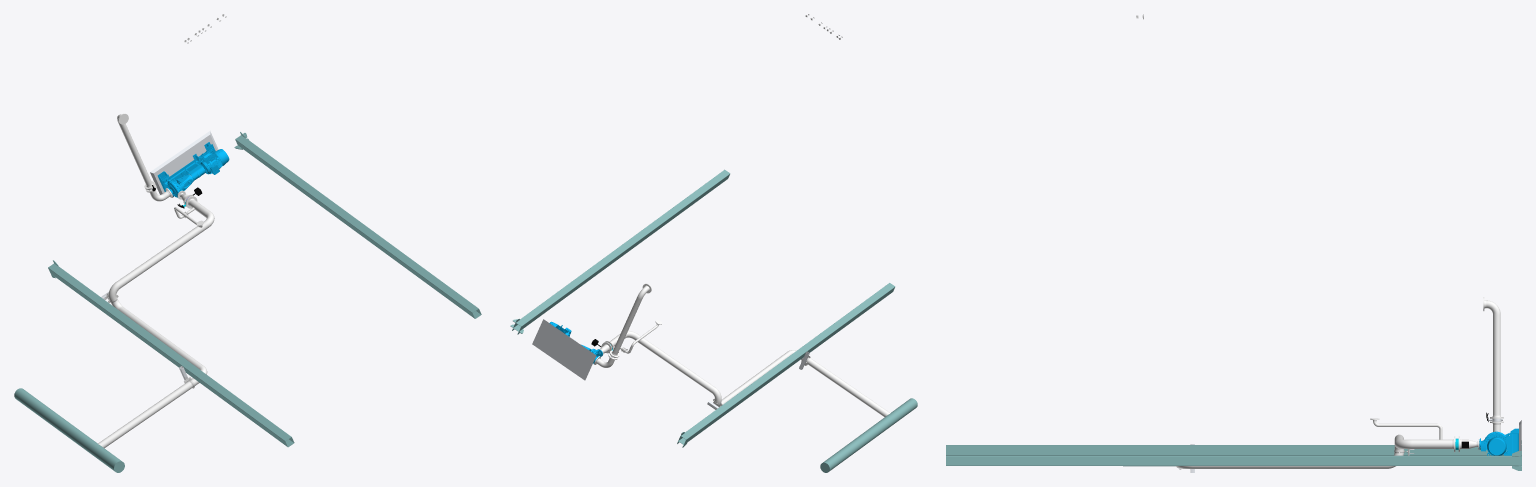
Rendered from New_Siebtechnik_New_PUMP2-v2.glb.
3 renders of one model, left to right at view 1: azimuth 30°, elevation 25°; view 2: azimuth 150°, elevation 25°; view 3: azimuth 270°, elevation 25°, orthographic. The views are drawn at different scales.
Visible parts, largest first — view 1: MESH_node_7, MESH_node_8, Insert_node, Insert, ACPPPIPE_node, ACPPPIPE_node_2, ACPPPIPE, Composite Part, 3D Solid; view 2: MESH_node_7, MESH_node_8, Insert, Insert_node, ACPPPIPE_node, ACPPPIPE_node_2, ACPPPIPE; view 3: MESH_node_7, MESH_node_8, ACPPPIPE_node_1.
Part boxes in pixels (bbox=[...]): MESH_node_7: bbox=[235, 135, 481, 318]; MESH_node_8: bbox=[48, 263, 294, 447]; Insert_node: bbox=[14, 388, 124, 472]; Insert: bbox=[150, 131, 218, 194]; ACPPPIPE_node: bbox=[98, 378, 199, 448]; ACPPPIPE_node_2: bbox=[116, 221, 208, 288]; ACPPPIPE: bbox=[119, 307, 202, 368]; Composite Part: bbox=[157, 142, 215, 191]; 3D Solid: bbox=[200, 149, 229, 174]; MESH_node_7: bbox=[513, 169, 730, 331]; MESH_node_8: bbox=[678, 283, 895, 444]; Insert: bbox=[532, 319, 596, 380]; Insert_node: bbox=[820, 398, 917, 472]; ACPPPIPE_node: bbox=[801, 357, 890, 417]; ACPPPIPE_node_2: bbox=[634, 334, 714, 392]; ACPPPIPE: bbox=[721, 351, 791, 404]; MESH_node_7: bbox=[946, 455, 1521, 465]; MESH_node_8: bbox=[946, 445, 1521, 455]; ACPPPIPE_node_1: bbox=[1493, 315, 1500, 415].
Bounding box in the file's own units: 7505 × 10230 × 10350.
